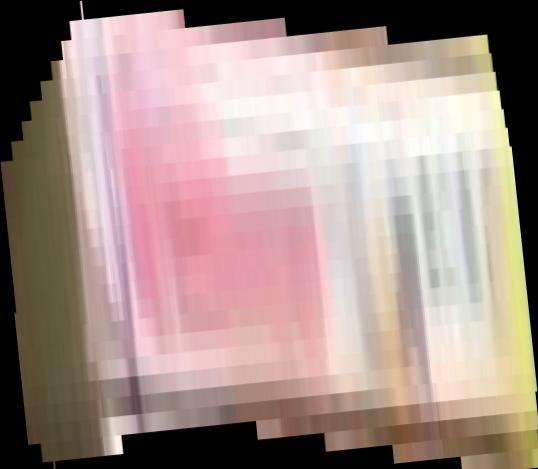flat: (1, 1, 538, 469)
